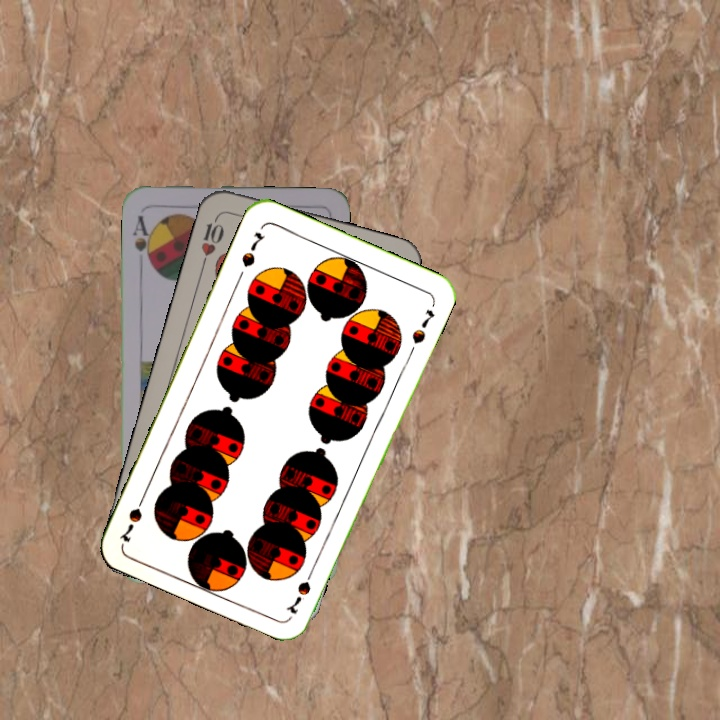H10: (197, 211, 227, 269)
S7: (282, 562, 318, 617), (237, 228, 268, 270)
SA: (128, 211, 155, 268)
